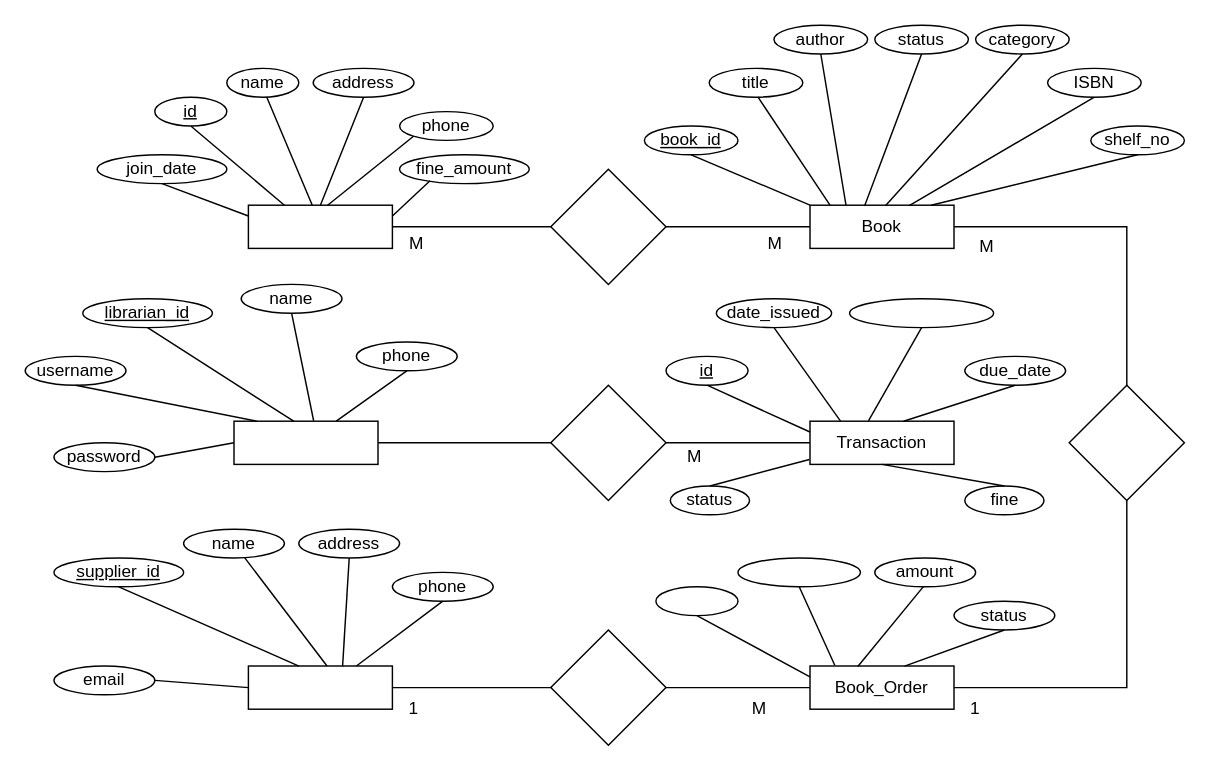
The diagram is 1210 pixels wide and 770 high, and some of its shapes have lost their labels. Here are the shapes that lost their labels. From the top down, the centre of each, then its label:
[319,226]: Member
[607,226]: Borrows
[921,312]: date_returned
[305,442]: Librarian
[607,442]: Manages
[1126,442]: Includes
[798,572]: order_date
[696,600]: order_id
[319,687]: Supplier
[607,687]: Supplies
